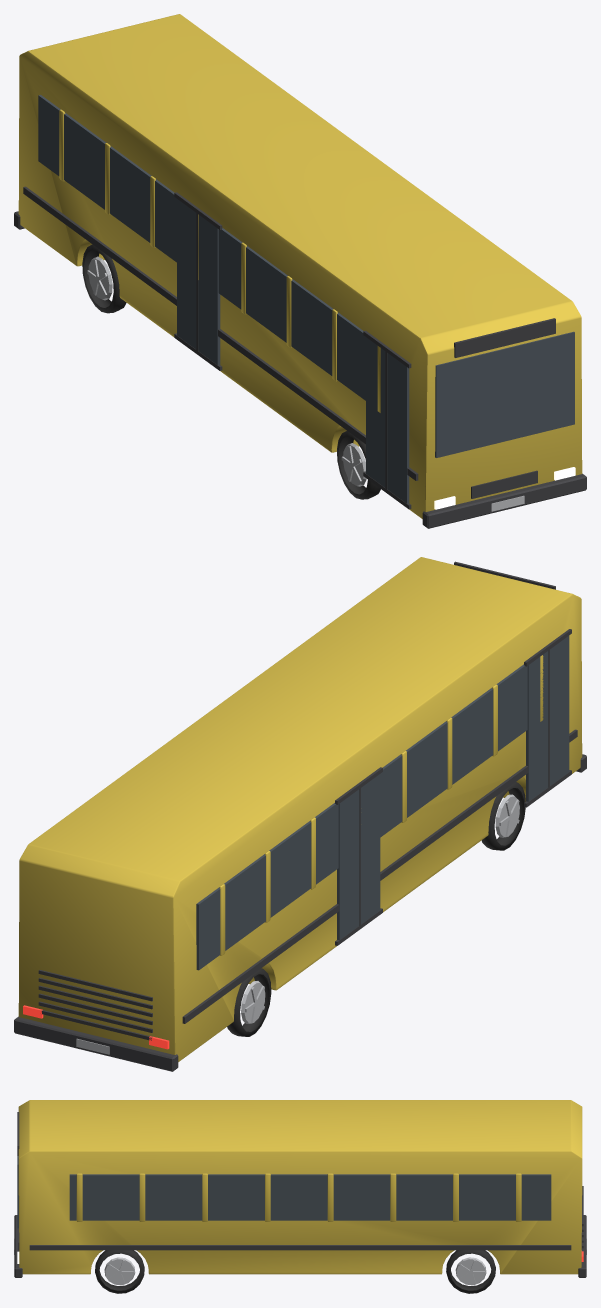
Rendered from bus.glb.
The picture shows the model from 3 angles, top to bottom: view 1: azimuth 30°, elevation 25°; view 2: azimuth 150°, elevation 25°; view 3: azimuth 270°, elevation 25°; orthographic projection. The views are drawn at different scales.
Visible parts, largest first — view 1: bus; view 2: bus; view 3: bus.
Part boxes in pixels (x1,y1,x2,y2): bus: (14,14,586,528); bus: (14,557,586,1071); bus: (14,1100,586,1293).
Size of the model in its own units: 2.58 by 3.15 by 11.42.
